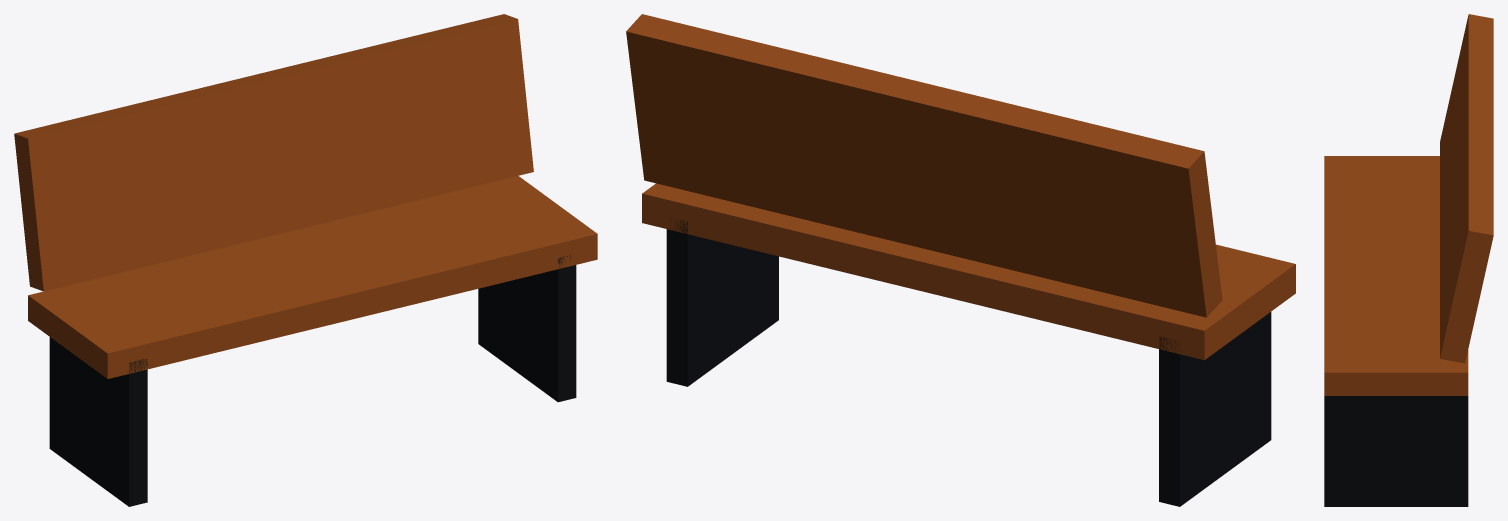
File: park_bench.obj
3 views of the same model, side by side, from view 1: azimuth 30°, elevation 25°; view 2: azimuth 150°, elevation 25°; view 3: azimuth 270°, elevation 25° (orthographic). The views are drawn at different scales.
Visible parts, largest first — view 1: park_bench; view 2: park_bench; view 3: park_bench.
Part boxes in pixels (box(x1,y1,x2,y2)): park_bench: box(14, 14, 597, 506); park_bench: box(626, 14, 1295, 506); park_bench: box(1324, 14, 1493, 506).
Bounding box in the file's own units: 1.6 × 0.9835 × 0.5289.
